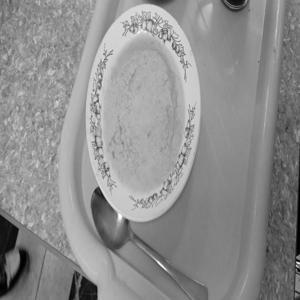porridge: (86, 21, 202, 215)
